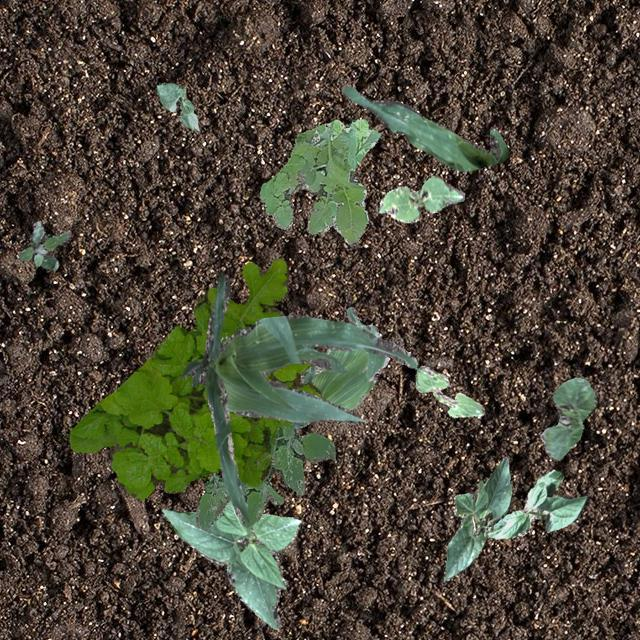crop: (180, 272, 417, 520), (160, 498, 300, 628), (340, 84, 508, 170), (290, 306, 388, 428), (442, 456, 510, 580), (485, 468, 587, 538), (540, 376, 596, 459), (378, 174, 463, 222), (414, 364, 484, 416), (154, 82, 198, 130)
weed: (66, 256, 320, 499), (258, 118, 379, 245), (194, 422, 334, 528), (18, 220, 68, 270)
